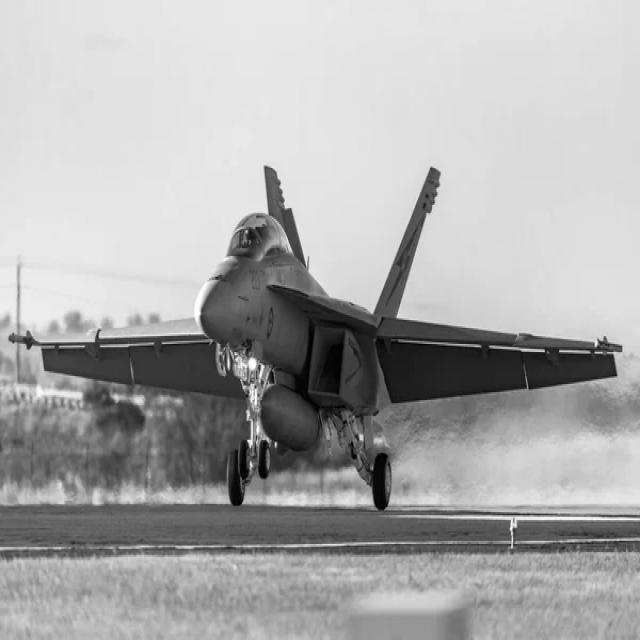Aircraft: (18, 162, 616, 516)
